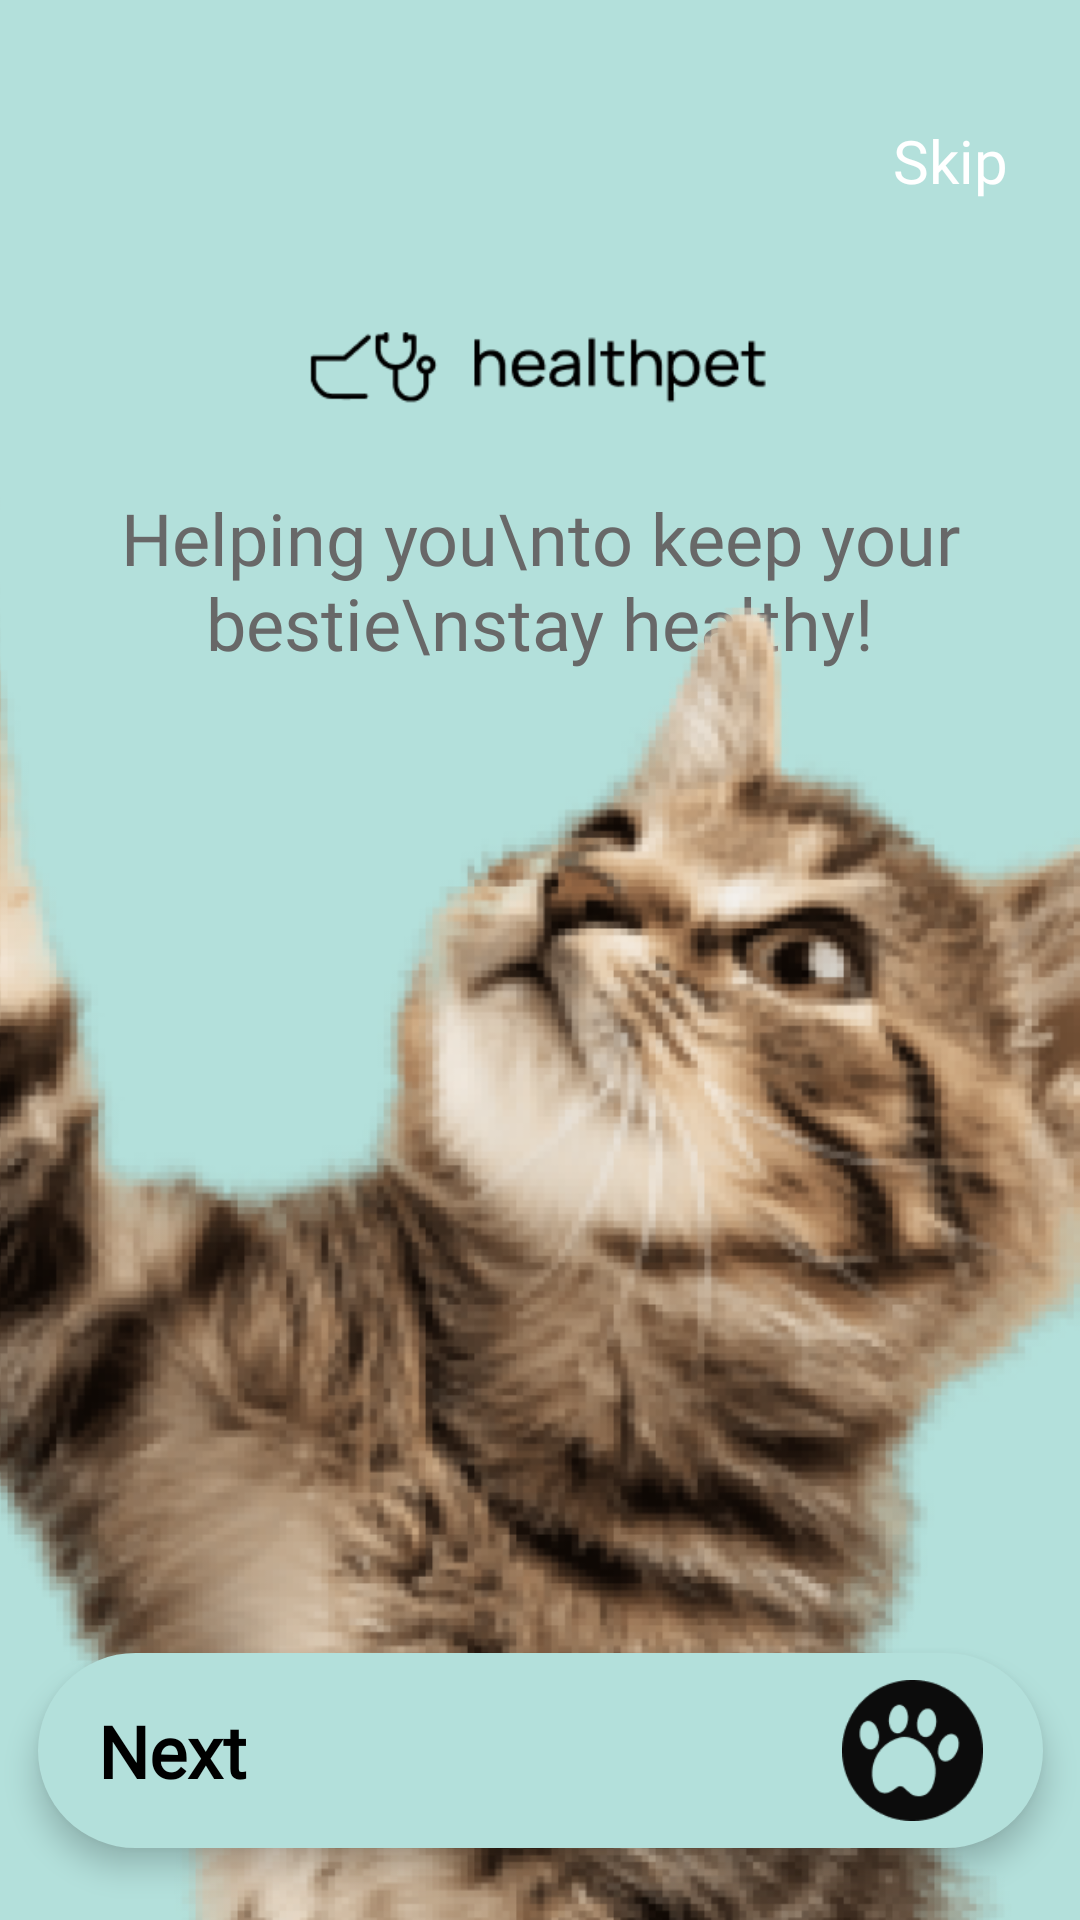

Point at icon controls on the screen. Image size 1080 × 1920, points as [x,y].
pata: [912,1750]
